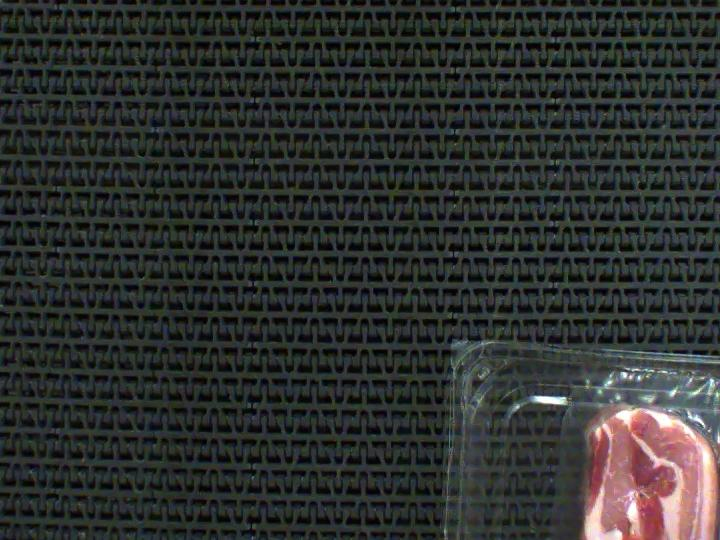unsealed: (563, 356, 720, 532)
